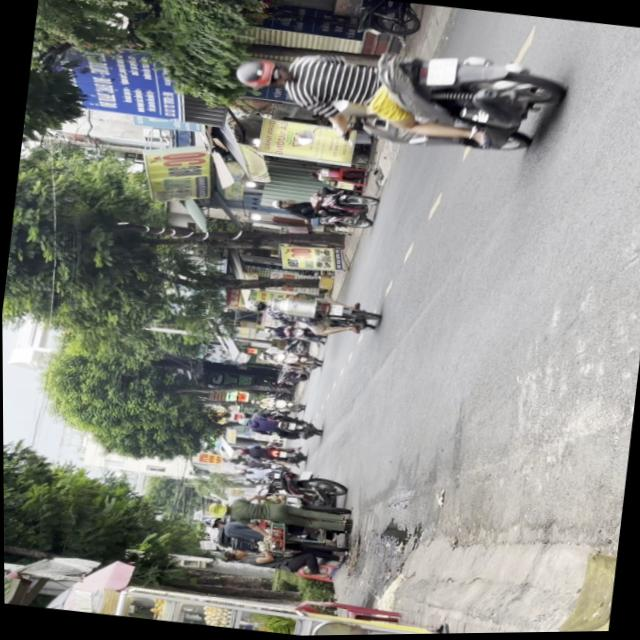helmet: (230, 55, 288, 92)
licenseplate: (222, 25, 564, 168)
nohelmet: (424, 57, 456, 88)
